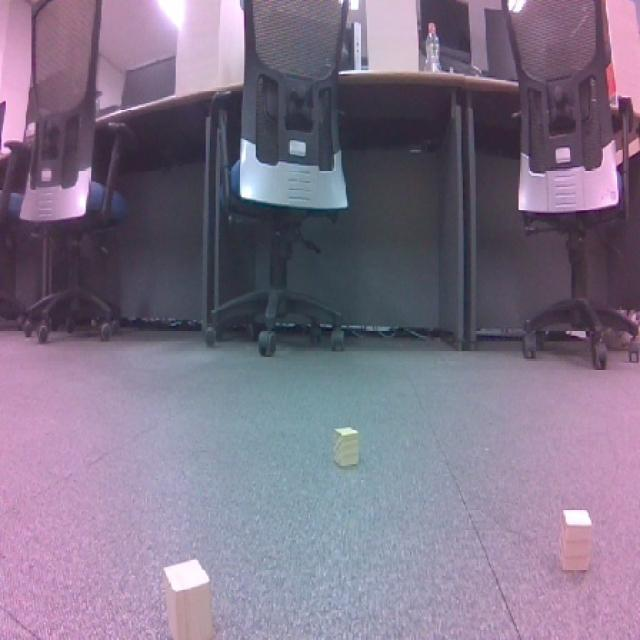obstacle: (152, 551, 234, 640), (554, 507, 602, 576), (324, 421, 366, 477)
